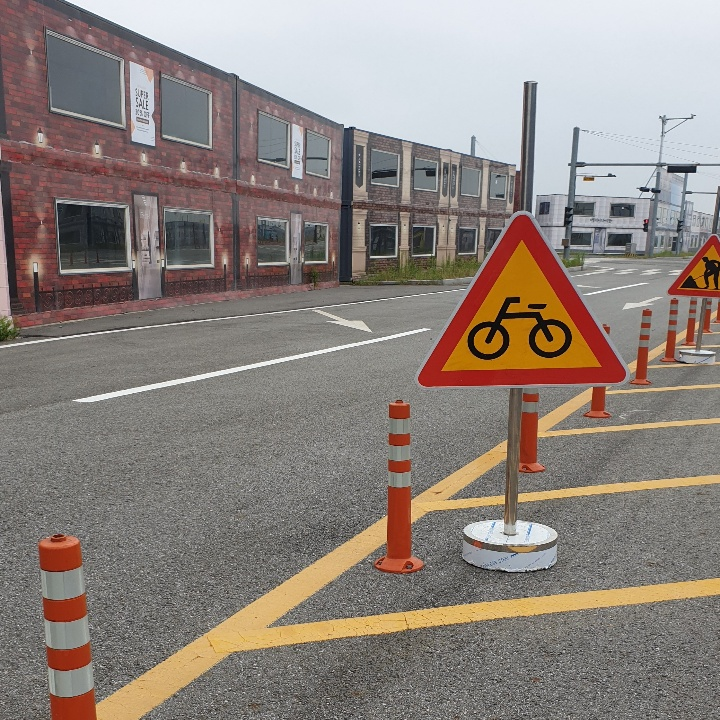bicycle: (420, 214, 629, 384)
const: (680, 244, 720, 288)
